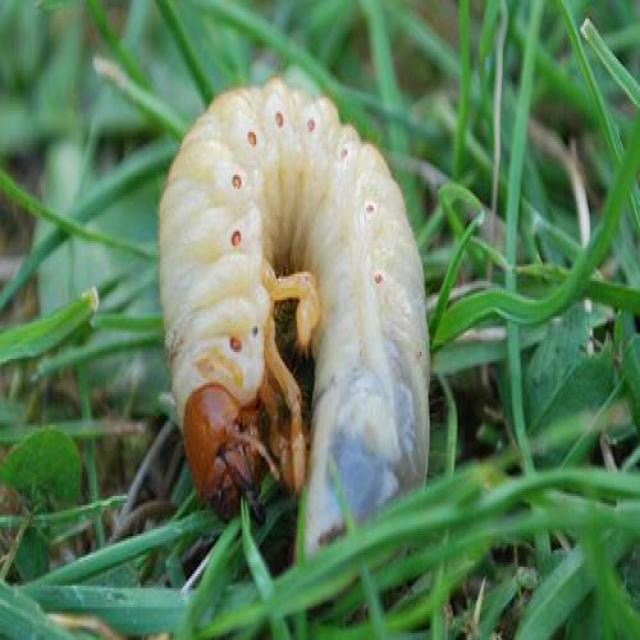Grub-Adult-: (136, 59, 445, 593)
